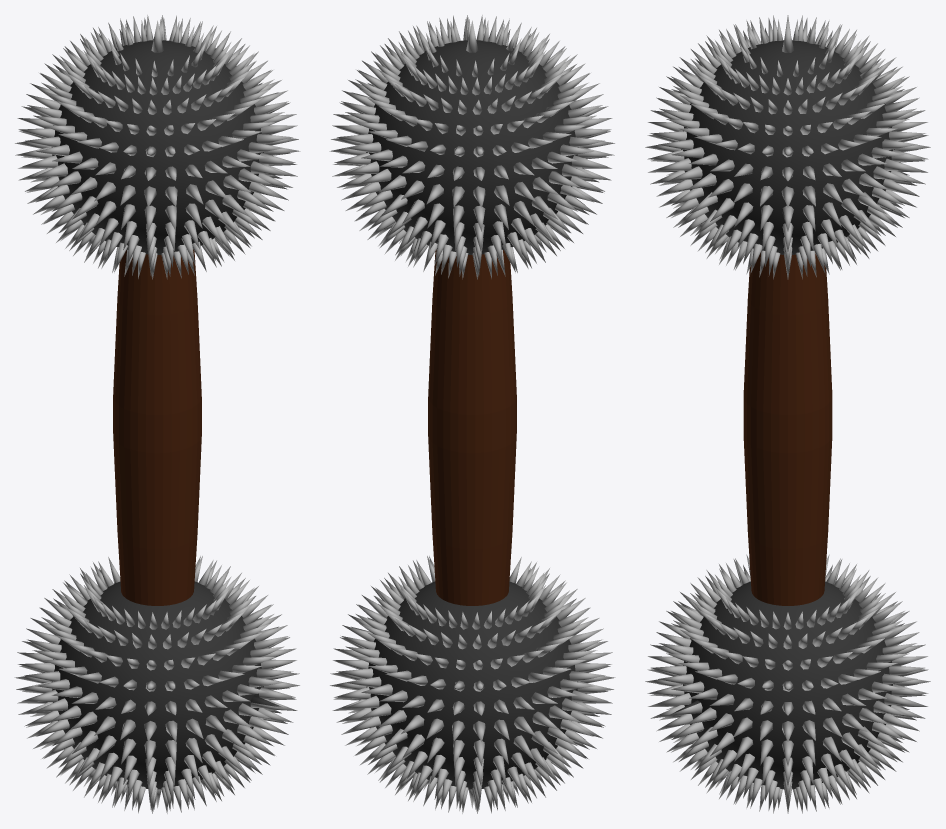
The model's file is SpikesBall.fbx.
The picture shows the model from 3 angles, left to right: view 1: azimuth 30°, elevation 25°; view 2: azimuth 150°, elevation 25°; view 3: azimuth 270°, elevation 25°; orthographic projection.
Visible parts, largest first — view 1: Spikes, Balls, Handle; view 2: Spikes, Balls, Handle; view 3: Spikes, Balls, Handle.
Boxes of the visible parts, x1,y1,x2,y2 form: Spikes: (14, 15, 300, 813); Balls: (50, 40, 263, 789); Handle: (113, 249, 201, 605); Spikes: (329, 15, 615, 813); Balls: (366, 40, 578, 789); Handle: (428, 249, 516, 605); Spikes: (645, 15, 930, 813); Balls: (681, 40, 894, 789); Handle: (743, 251, 832, 605).
Bounding box in the file's own units: 267 × 809 × 267.
